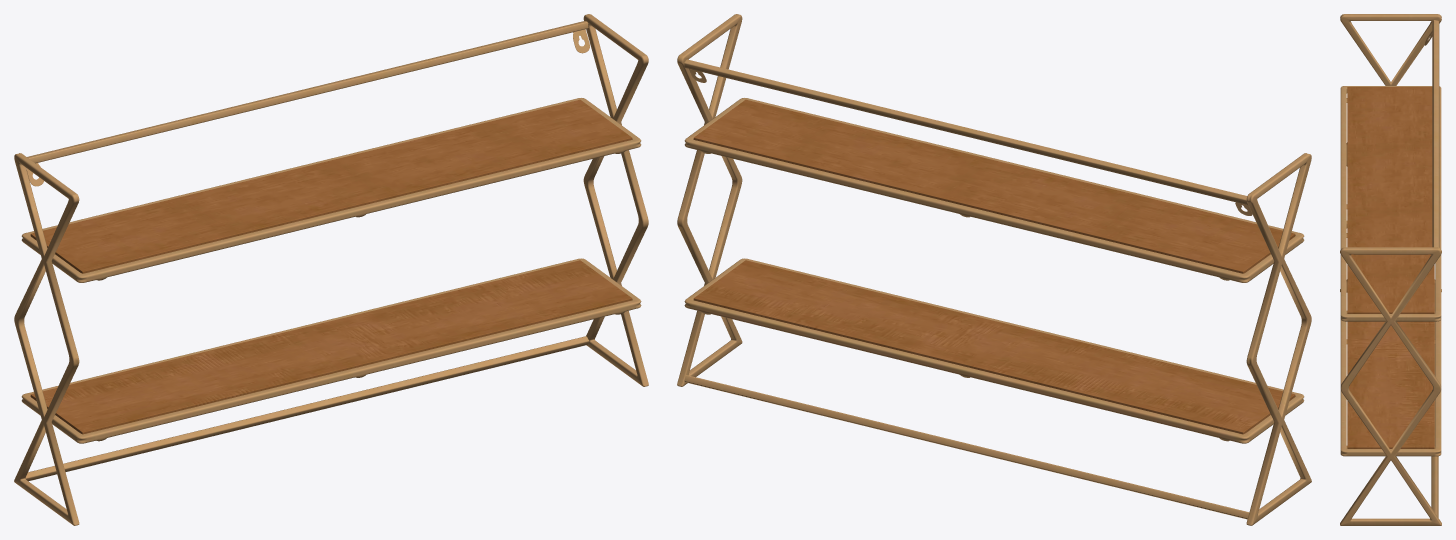
Rendered from abo-B07HSJX4S6.glb.
3 renders of one model, left to right at view 1: azimuth 30°, elevation 25°; view 2: azimuth 150°, elevation 25°; view 3: azimuth 270°, elevation 25°, orthographic. The views are drawn at different scales.
Bounding box in the file's own units: 0.822 × 0.45 × 0.15.
Materials: 1 (1 with a texture image).
